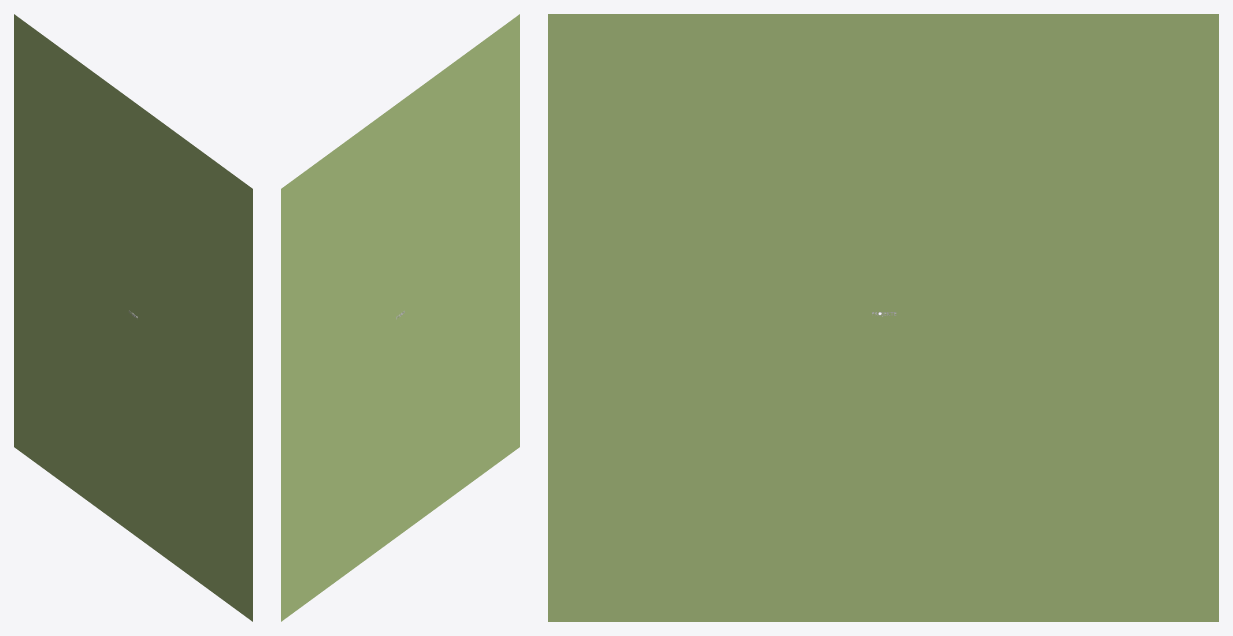
Rendered from projects_text_plane.glb.
3 renders of one model, left to right at view 1: azimuth 30°, elevation 25°; view 2: azimuth 150°, elevation 25°; view 3: azimuth 270°, elevation 25°, orthographic. The views are drawn at different scales.
Visible parts, largest first — view 1: Plane; view 2: Plane; view 3: Plane.
Part boxes in pixels (left/top/right/bottom): Plane: left=14, top=14, right=252, bottom=621; Plane: left=281, top=14, right=519, bottom=621; Plane: left=548, top=14, right=1218, bottom=621.
Size of the model in its own units: 0.1956 by 292 by 292.
